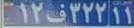character: (45, 1, 68, 27), (29, 1, 45, 26), (68, 1, 82, 25), (16, 1, 29, 26), (95, 1, 108, 26), (82, 1, 94, 25), (122, 5, 134, 25), (111, 5, 122, 26)
